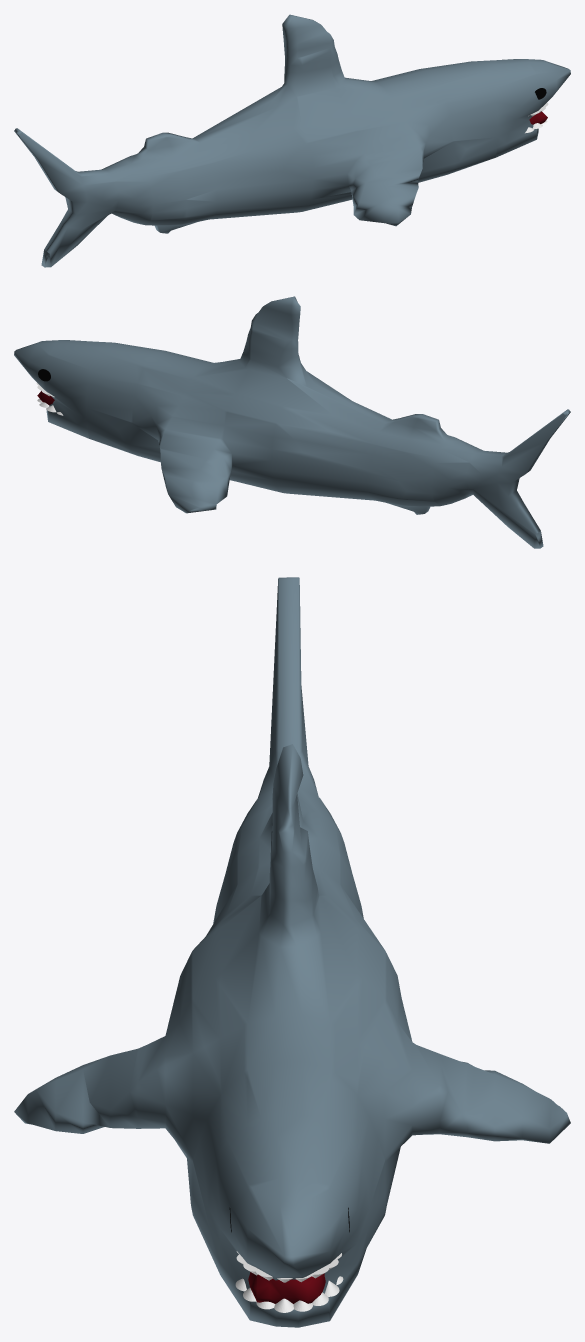
File: Shark.fbx
3 renders of one model, top to bottom at view 1: azimuth 30°, elevation 25°; view 2: azimuth 150°, elevation 25°; view 3: azimuth 270°, elevation 25°, orthographic. The views are drawn at different scales.
Visible parts, largest first — view 1: Mball.012; view 2: Mball.012; view 3: Mball.012, Mball.003, Cone.
Boxes of the visible parts, <box> form: Mball.012: <box>14,14,570,267</box>; Mball.012: <box>14,296,570,548</box>; Mball.012: <box>14,577,570,1327</box>; Mball.003: <box>248,1272,325,1303</box>; Cone: <box>235,1276,343,1312</box>.
Bounding box in the file's own units: 2547 × 840 × 1119.
